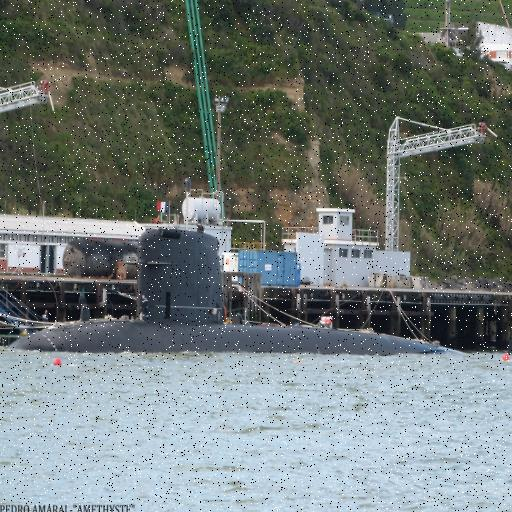submarine: (7, 233, 458, 352)
